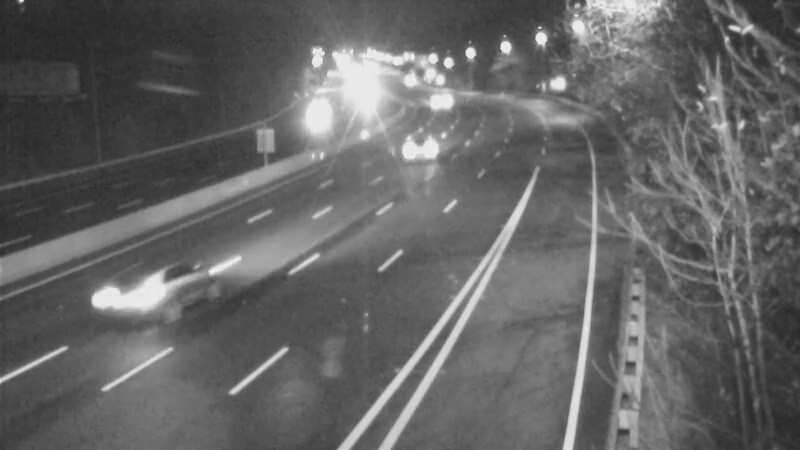vehicle: (99, 258, 179, 338), (383, 60, 433, 110), (411, 74, 461, 124), (394, 116, 444, 166), (291, 91, 341, 141)
